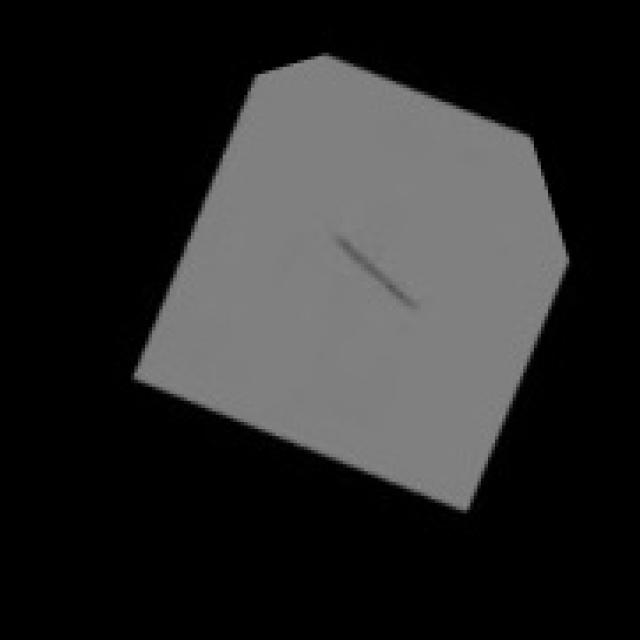Defect4: (308, 200, 444, 338)
